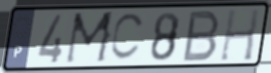4: (35, 12, 65, 65)
8: (149, 10, 182, 62)
B: (180, 8, 222, 64)
C: (108, 11, 147, 63)
H: (217, 7, 262, 63)
M: (62, 10, 118, 67)
